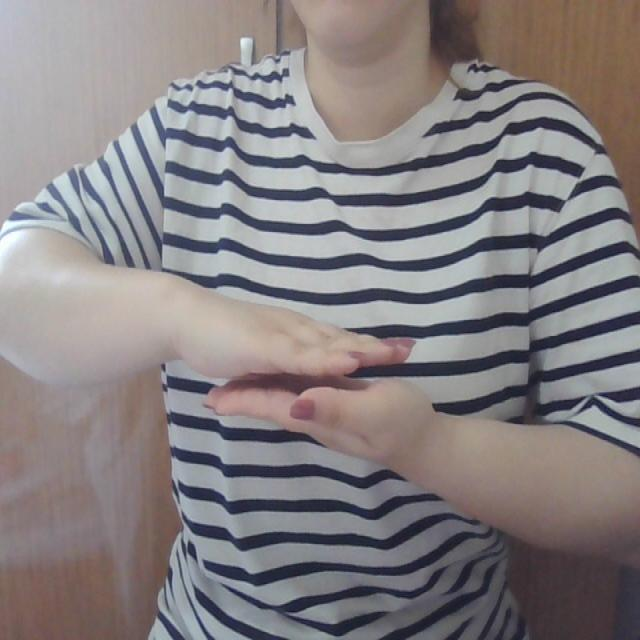Arkadas: (137, 298, 576, 454)
